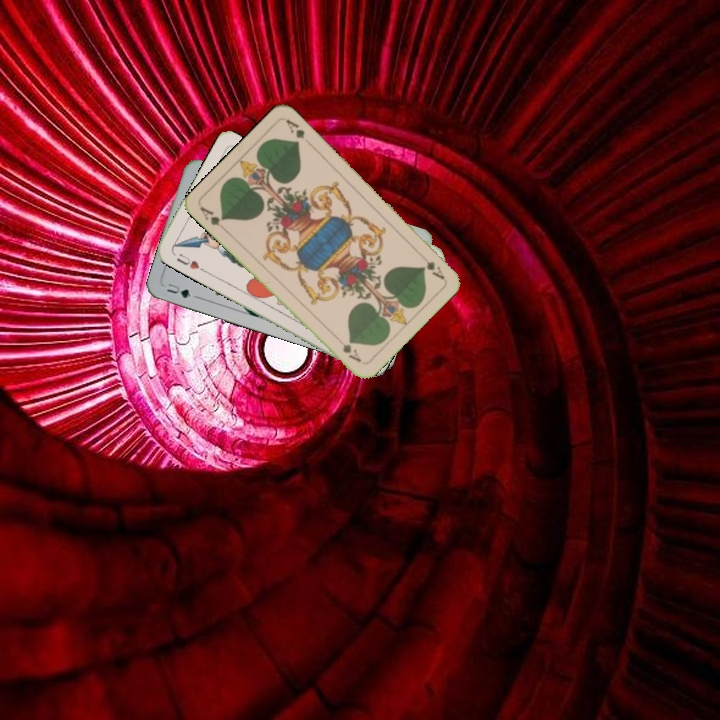GA: (415, 249, 447, 282), (196, 203, 227, 228)
GU: (163, 279, 194, 301)
HU: (172, 249, 207, 274)
